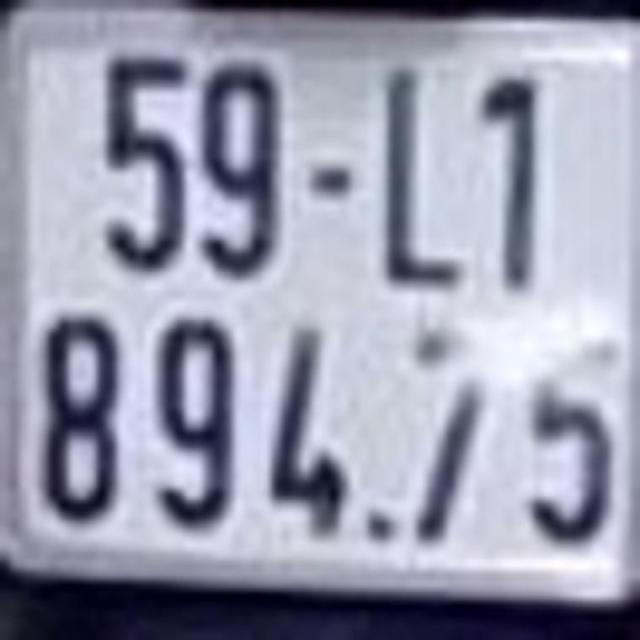1: (476, 66, 551, 293)
4: (268, 318, 352, 542)
5: (99, 49, 190, 274), (528, 321, 619, 546)
7: (407, 309, 492, 542)
8: (41, 310, 120, 523)
9: (198, 56, 282, 280), (154, 312, 235, 529)
L: (371, 58, 470, 289)
